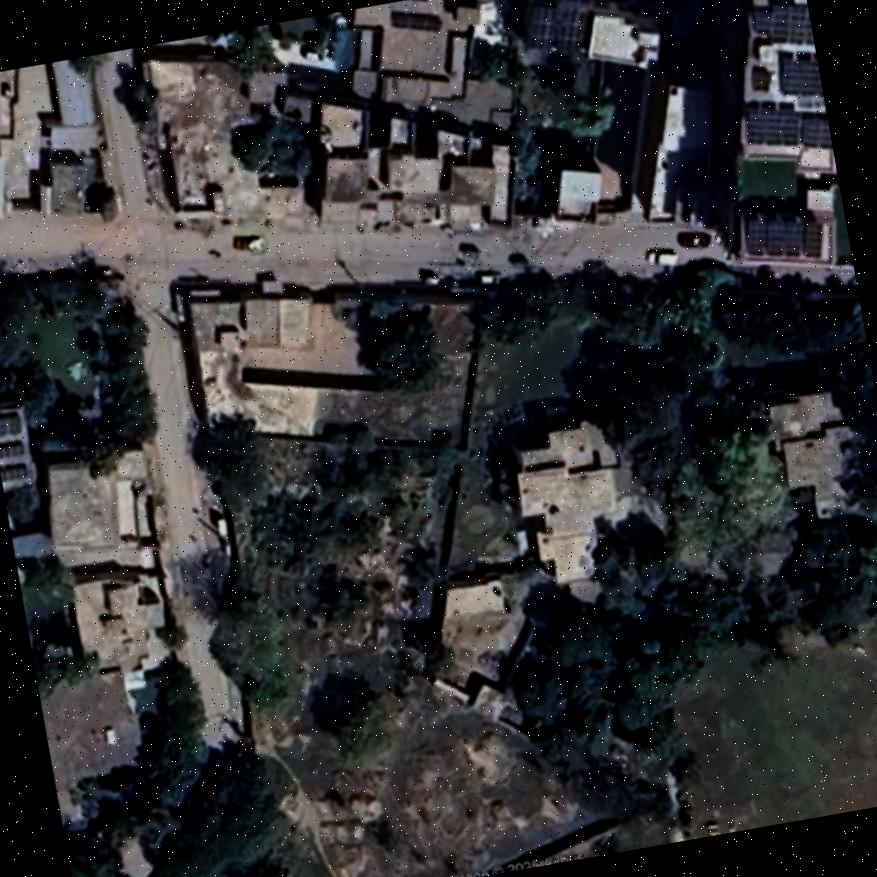Solarpanel: (528, 6, 590, 53), (747, 218, 821, 255), (753, 6, 813, 42), (745, 108, 804, 143), (779, 58, 822, 95), (800, 115, 831, 146), (0, 416, 21, 436), (0, 464, 24, 481), (0, 443, 20, 456)
